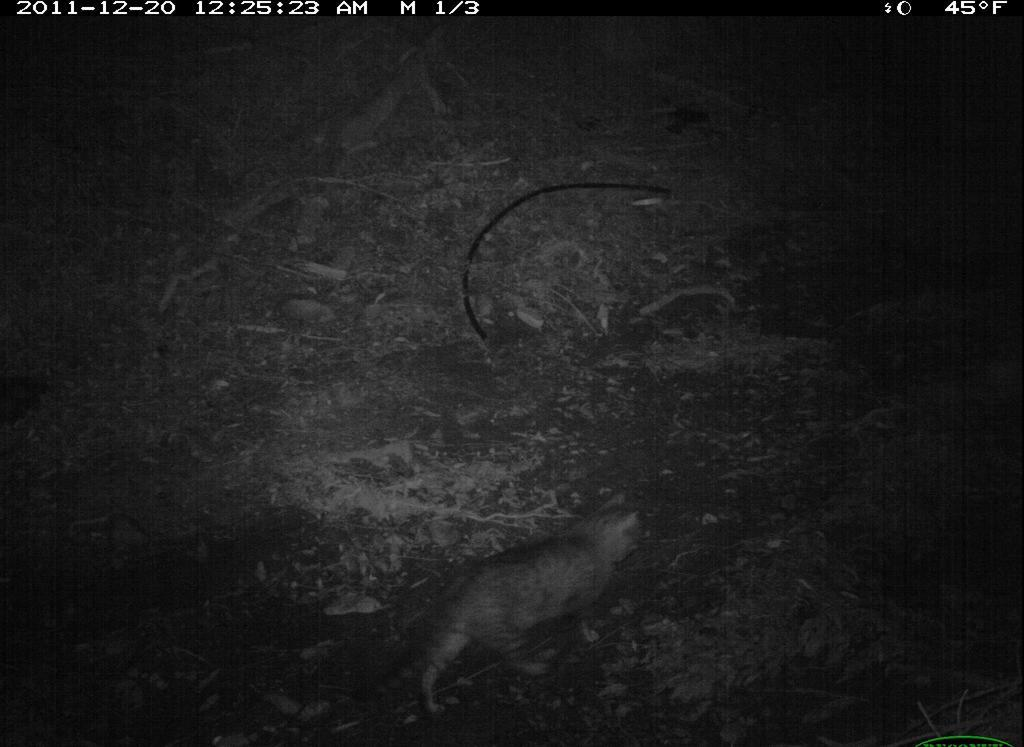cat: (350, 486, 656, 729)
